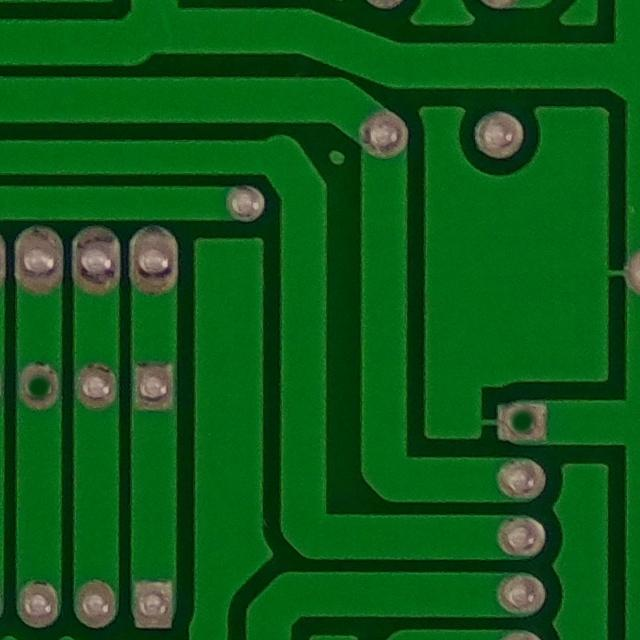missing_hole: (490, 391, 557, 457), (15, 350, 68, 422)
